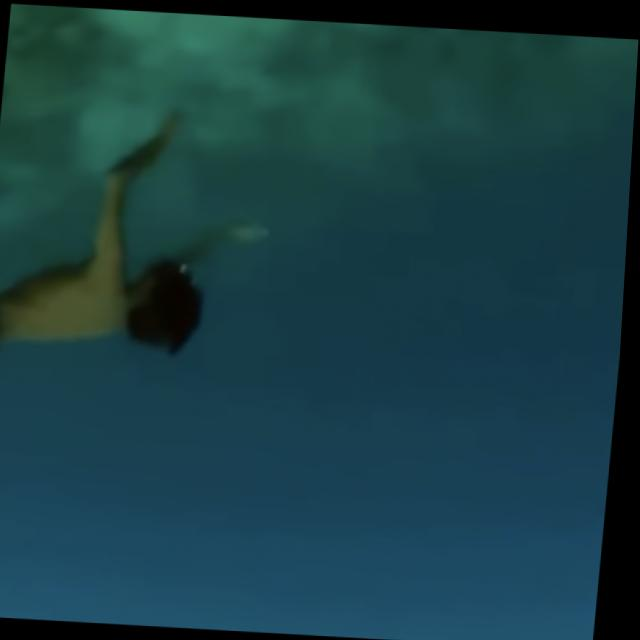human: (0, 93, 282, 526)
